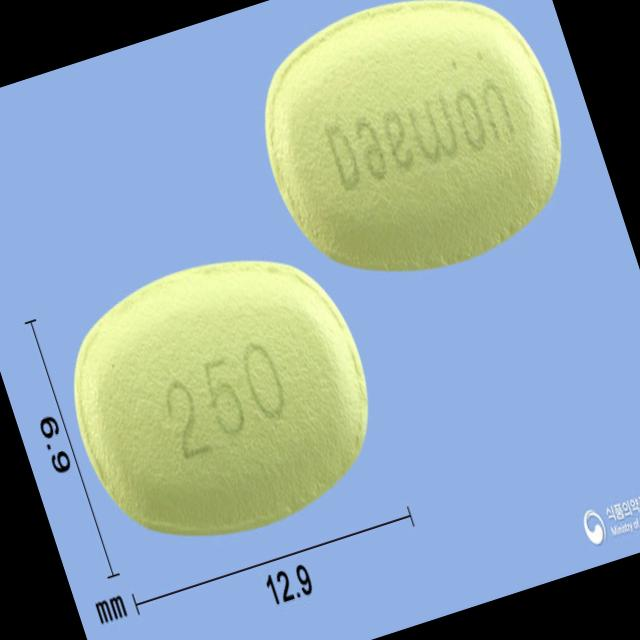Clasin: (39, 220, 402, 573), (231, 0, 598, 316)
